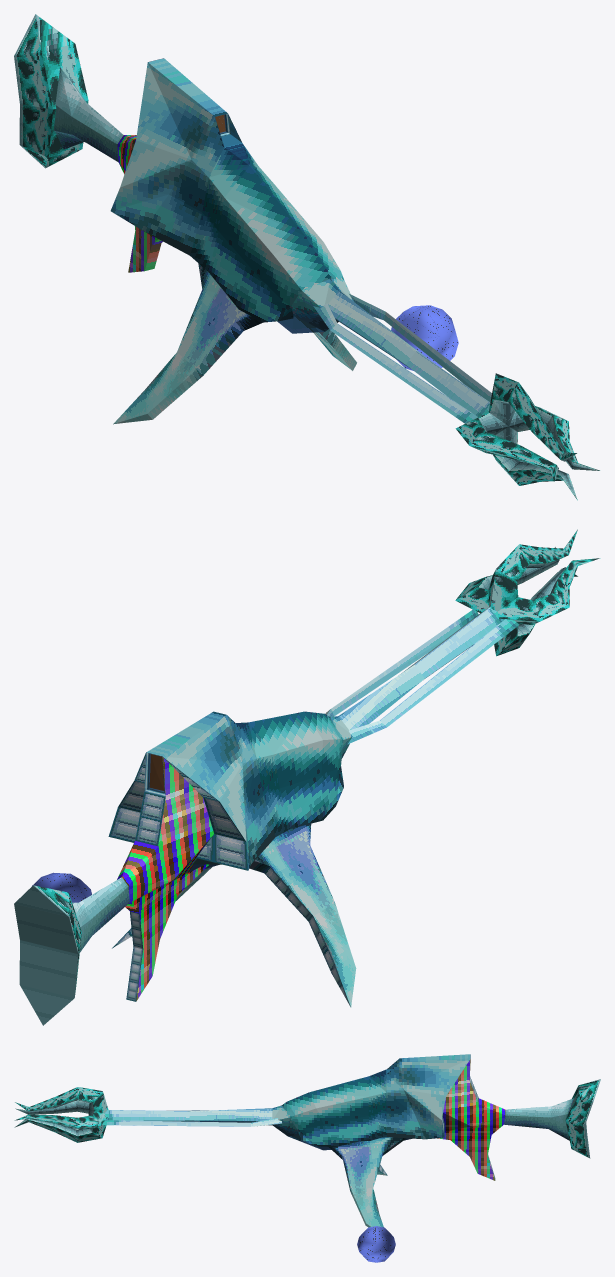
Rendered from Gun0016.obj.
The picture shows the model from 3 angles, top to bottom: view 1: azimuth 30°, elevation 25°; view 2: azimuth 150°, elevation 25°; view 3: azimuth 270°, elevation 25°; orthographic projection. The views are drawn at different scales.
Parts seen in each view (by area): view 1: Room01_primary, Room03_primary; view 2: Room01_primary, Room03_primary; view 3: Room01_primary, Room03_primary.
Part boxes in pixels (x1,y1,x2,y2): Room01_primary: (14, 14, 599, 500); Room03_primary: (391, 305, 458, 370); Room01_primary: (14, 529, 600, 1025); Room03_primary: (32, 872, 91, 902); Room01_primary: (14, 1054, 600, 1227); Room03_primary: (357, 1226, 395, 1262).
Bounding box in the file's own units: 405 × 341 × 1149.
104 materials, 104 textured.
